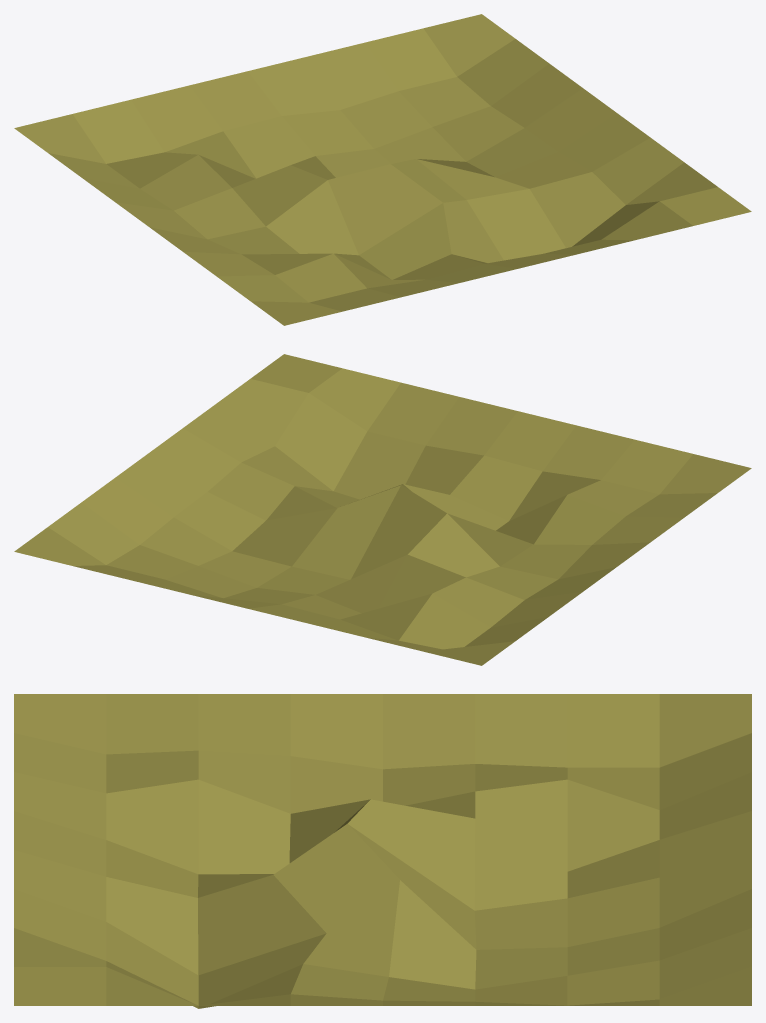
Rendered from Terrain_20_Yellow.fbx.
3 views of the same model, one above another, from view 1: azimuth 30°, elevation 25°; view 2: azimuth 150°, elevation 25°; view 3: azimuth 270°, elevation 25° (orthographic). The views are drawn at different scales.
Parts seen in each view (by area): view 1: Terrain_20_Yellow; view 2: Terrain_20_Yellow; view 3: Terrain_20_Yellow.
Part boxes in pixels (x1,y1,x2,y2): Terrain_20_Yellow: [14, 14, 751, 325]; Terrain_20_Yellow: [14, 354, 751, 665]; Terrain_20_Yellow: [14, 694, 751, 1008].
Bounding box in the file's own units: 8000 × 1307 × 8000.
